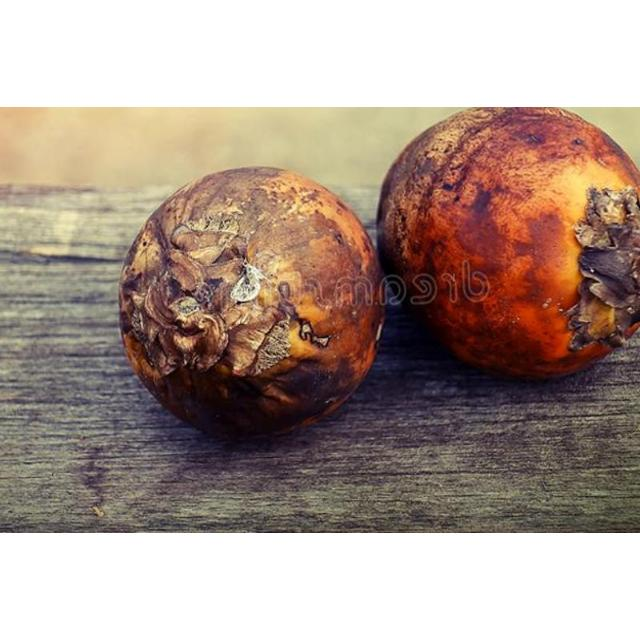damaged: (118, 167, 386, 441), (376, 107, 639, 382)
